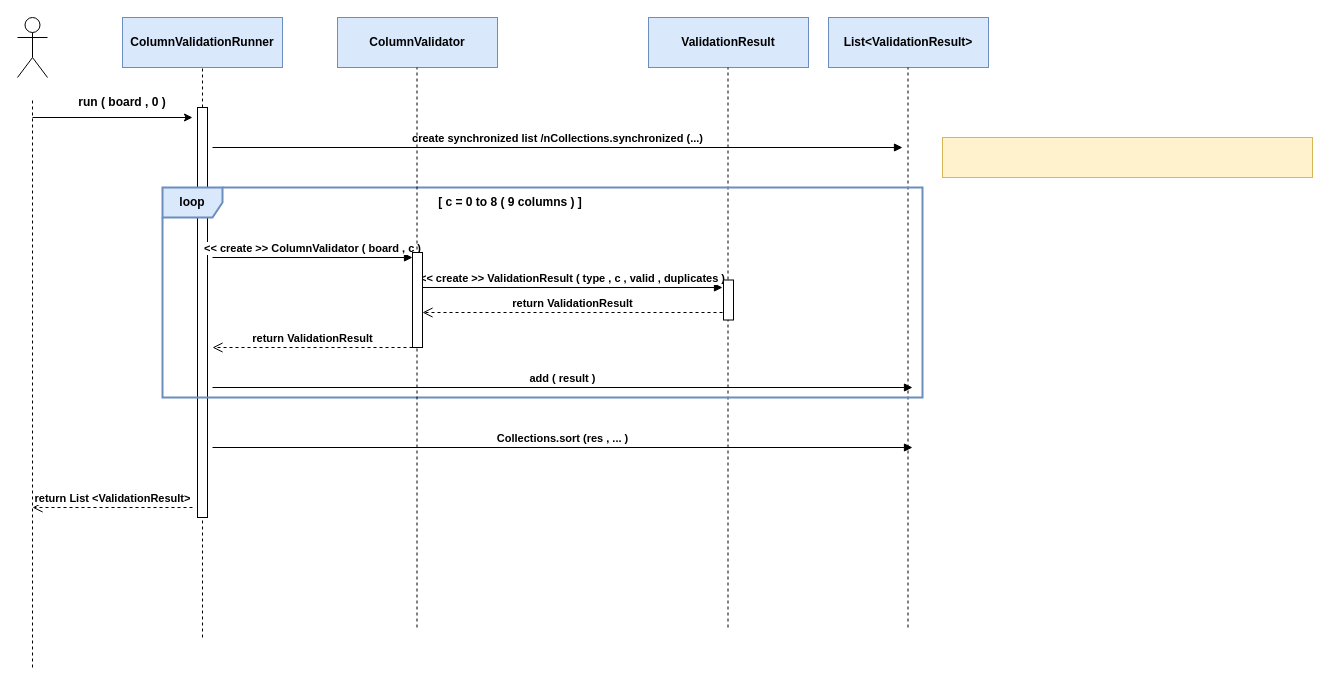
This 1330x686 diagram has some shape labels left out. Here are the shapes that lost their labels. From the top down, the centre of each, then its label:
point 32,47: Actor
point 1127,157: Create the result list to score ValidationResult objects
